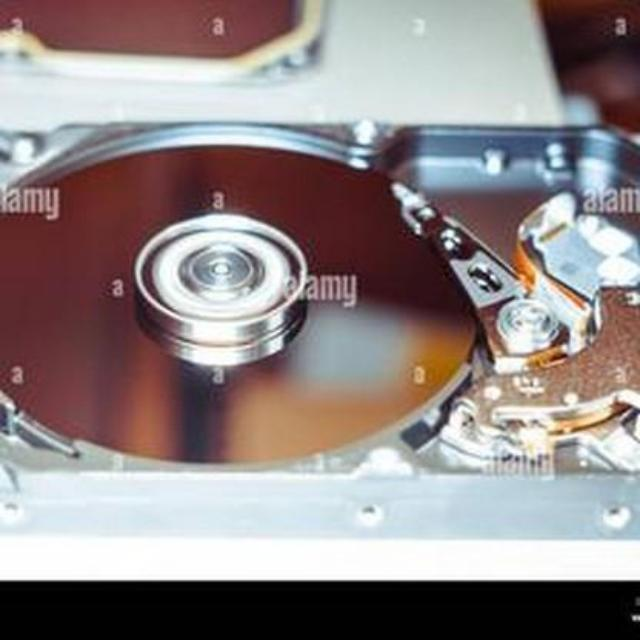DISK: (0, 121, 640, 538)
